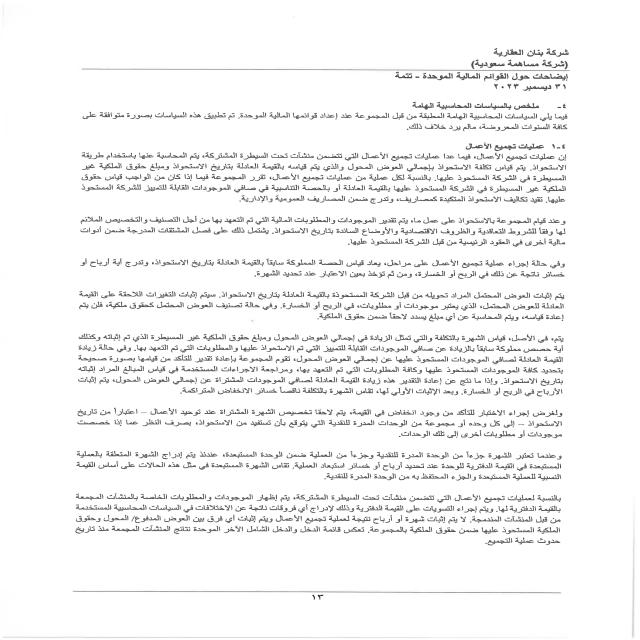notes: (389, 70, 577, 82)
text: (37, 98, 579, 551)
